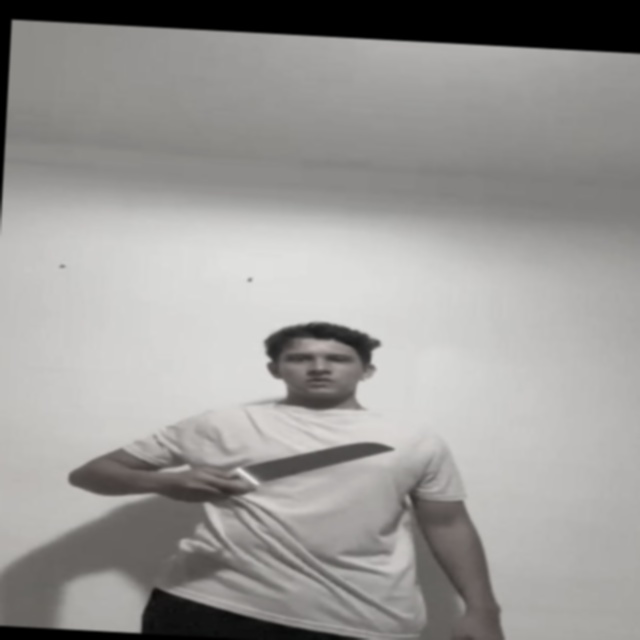Sharp-Object: (247, 435, 399, 485)
